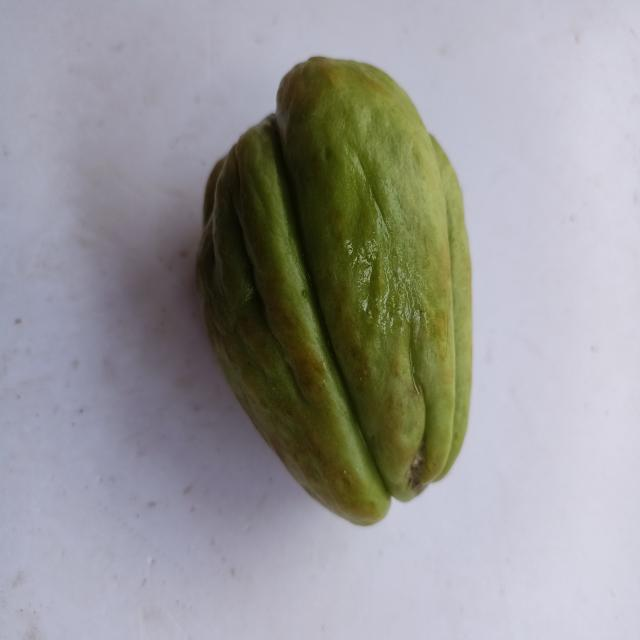Chayote: (189, 46, 490, 535)
